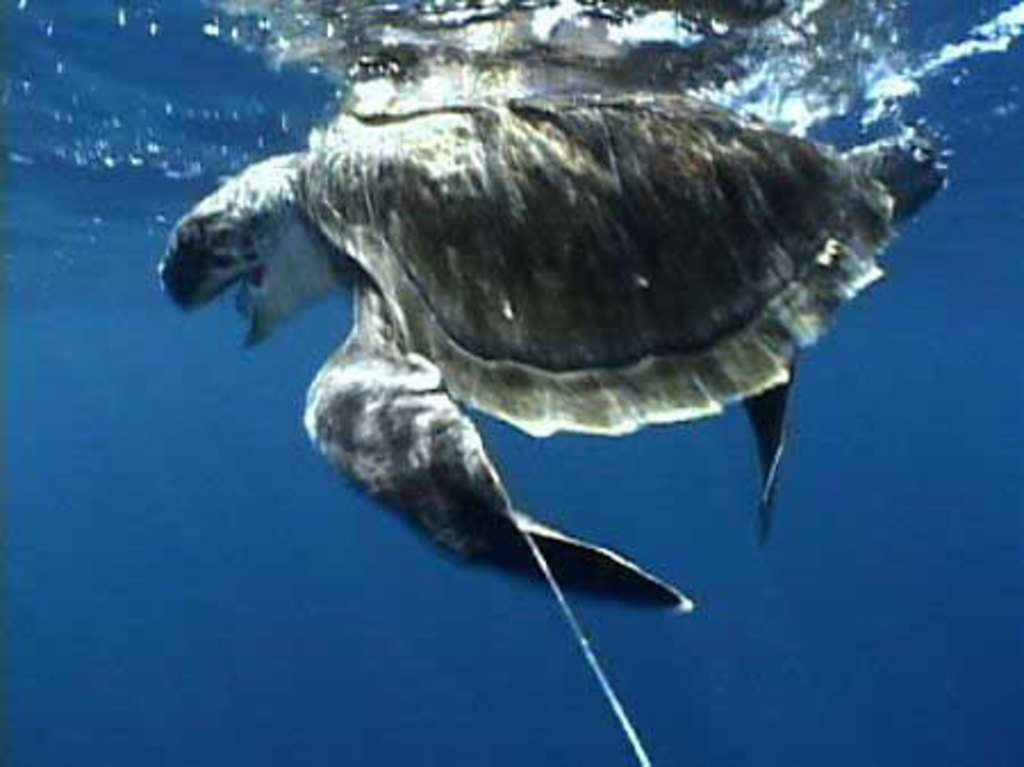Sea turtles: (154, 86, 946, 616)
